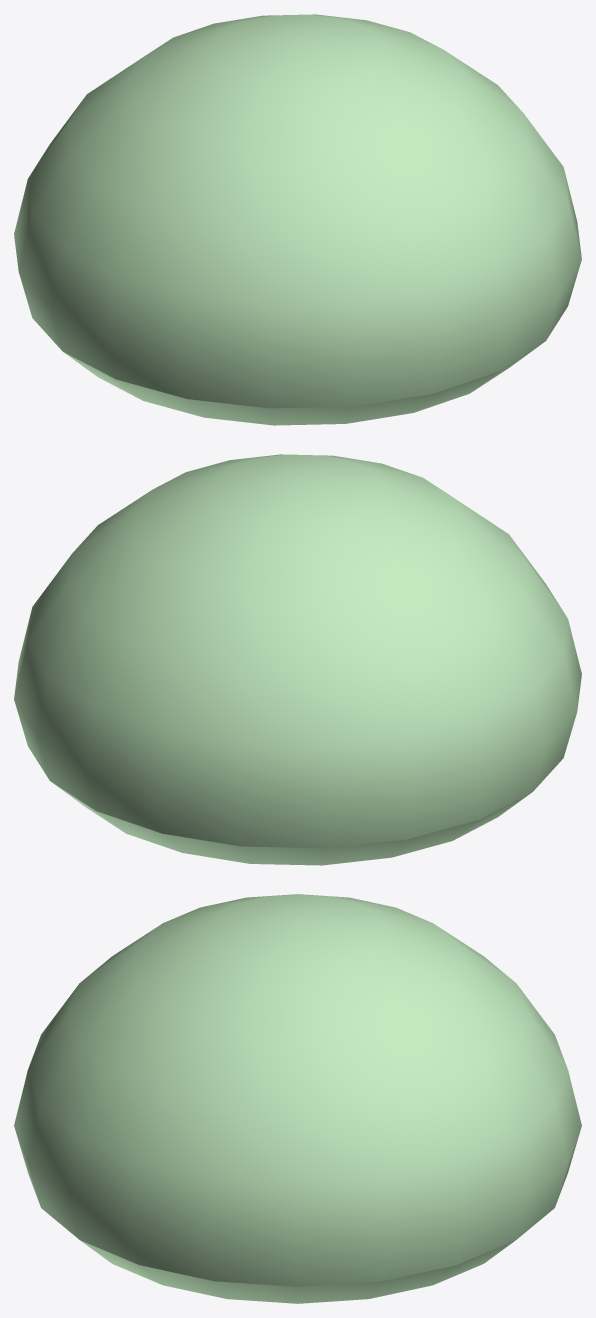
Rendered from slime.fbx.
3 renders of one model, top to bottom at view 1: azimuth 30°, elevation 25°; view 2: azimuth 150°, elevation 25°; view 3: azimuth 270°, elevation 25°, orthographic.
Visible parts, largest first — view 1: outer skin; view 2: outer skin; view 3: outer skin.
Part boxes in pixels (<box>): outer skin: <box>14,14,581,425</box>; outer skin: <box>14,454,581,865</box>; outer skin: <box>14,894,581,1303</box>.
Bounding box in the file's own units: 29.7 × 18.14 × 29.7.
